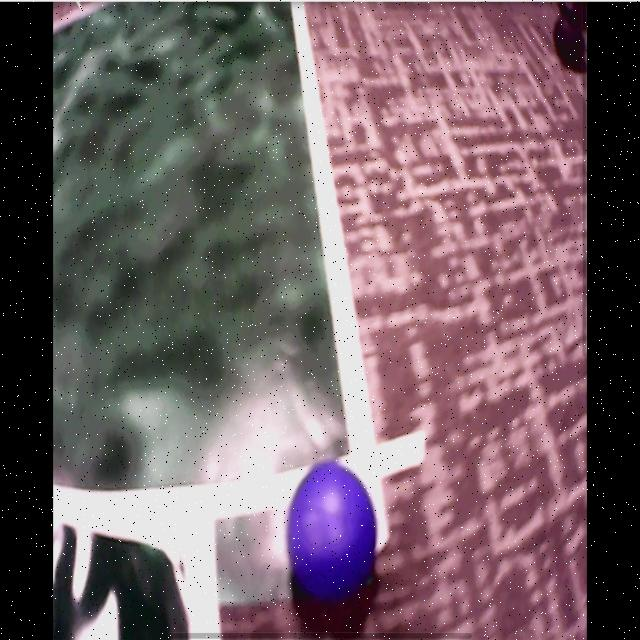ball: (289, 464, 378, 598)
